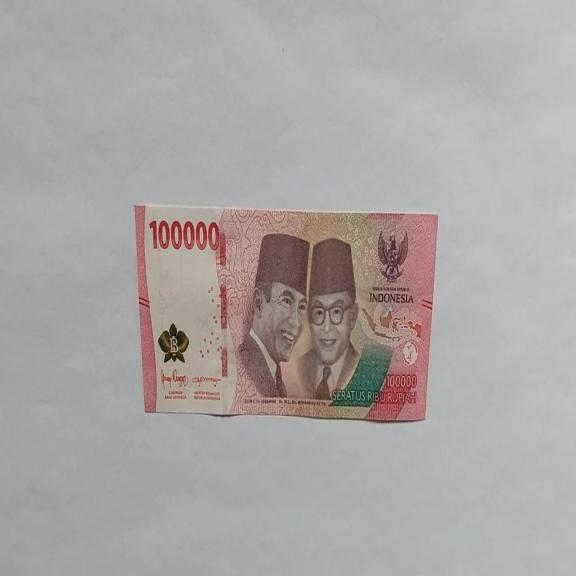Kertas: (134, 204, 439, 422), (148, 216, 221, 253)
